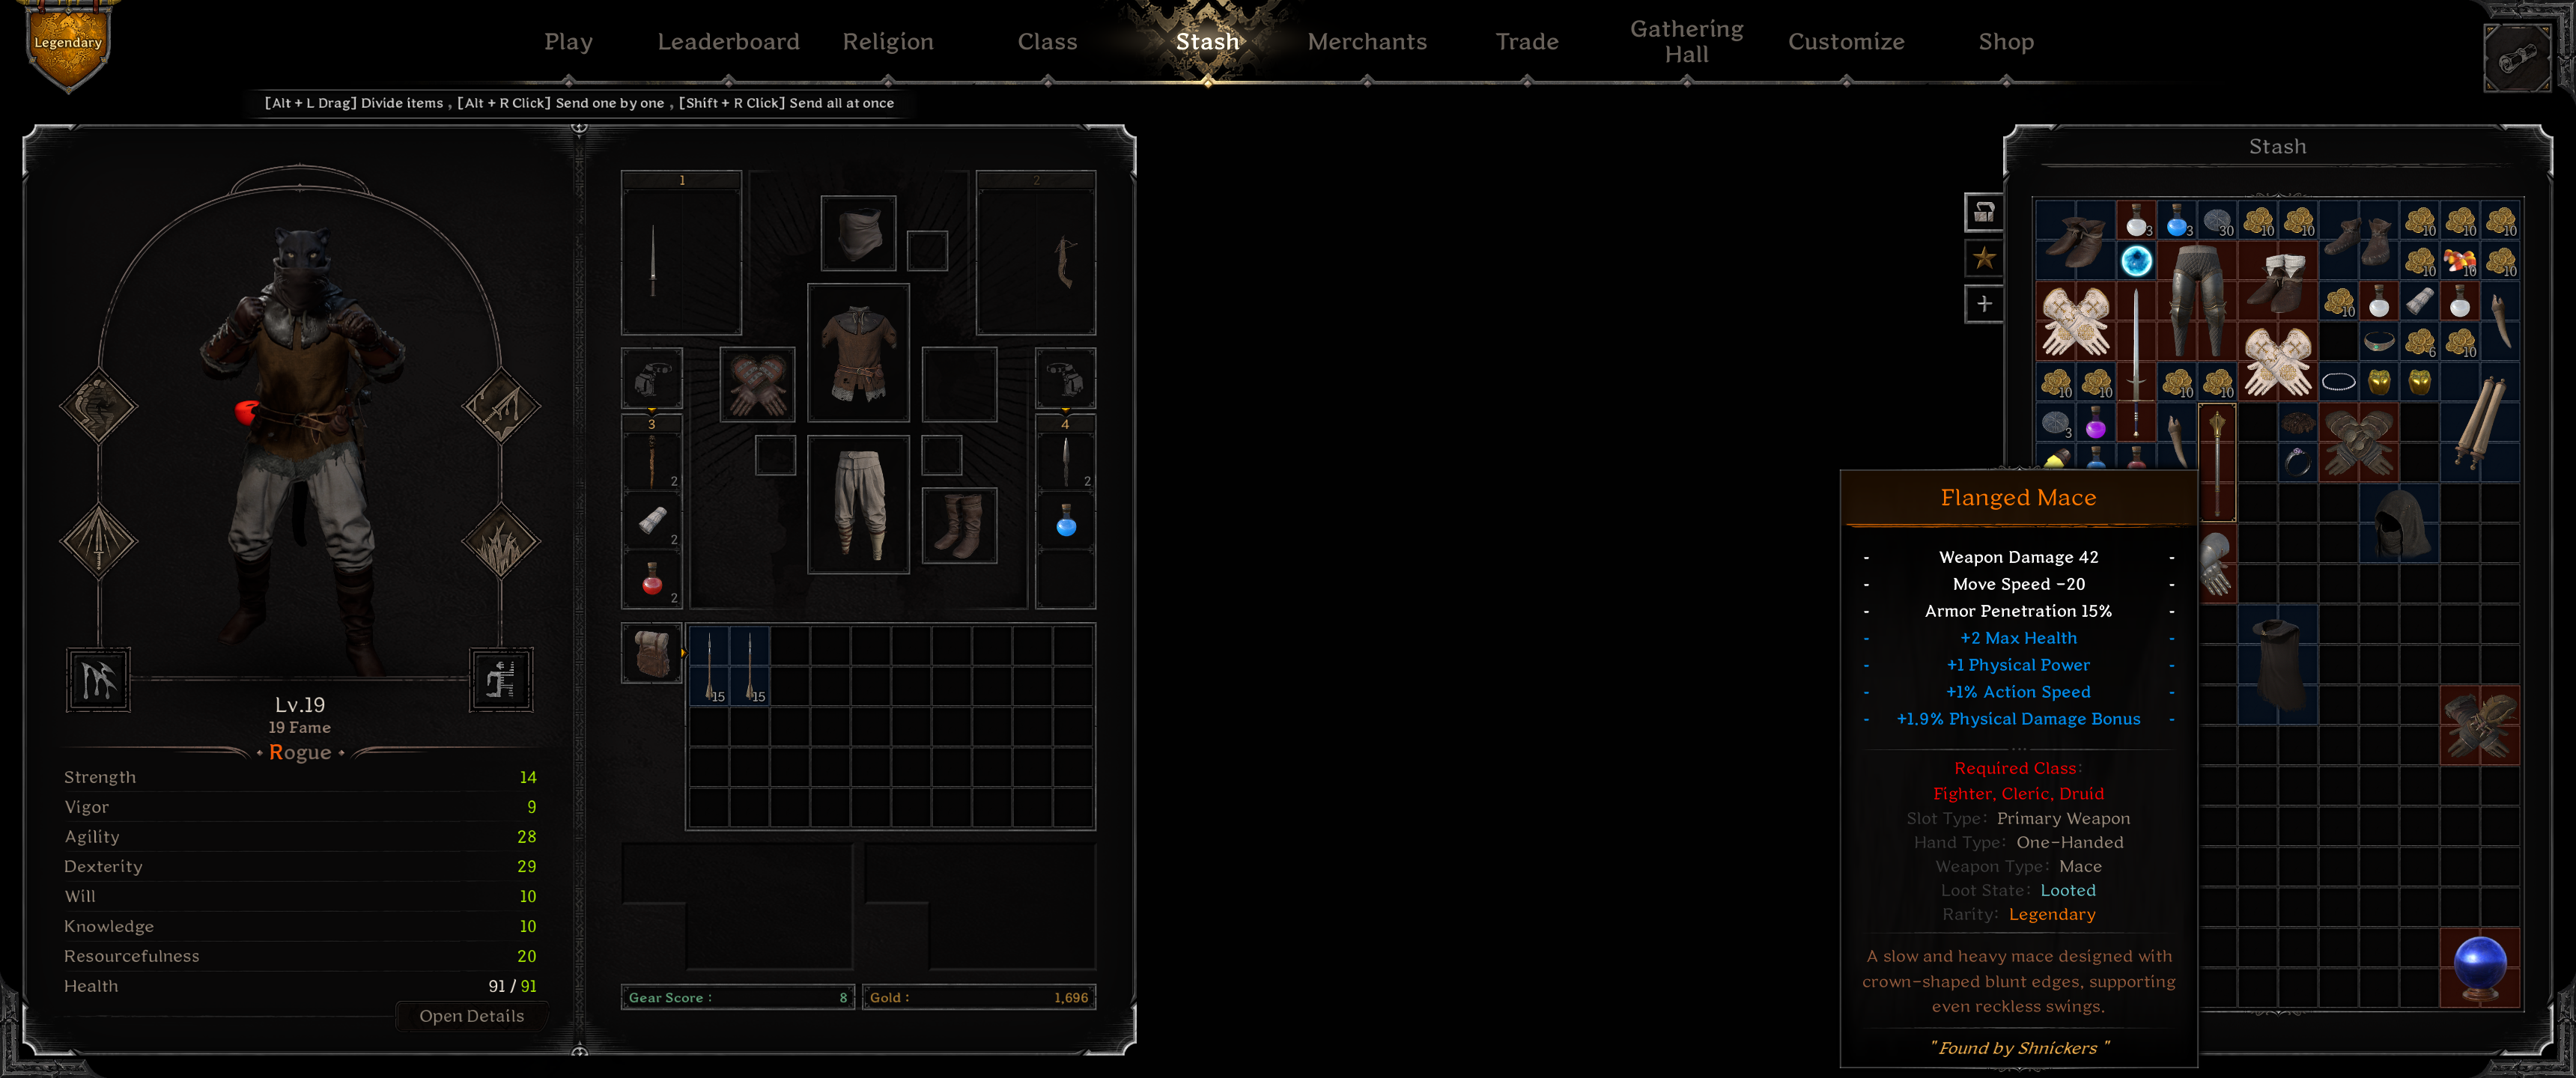Tooltip: (1838, 467, 2200, 1070)
